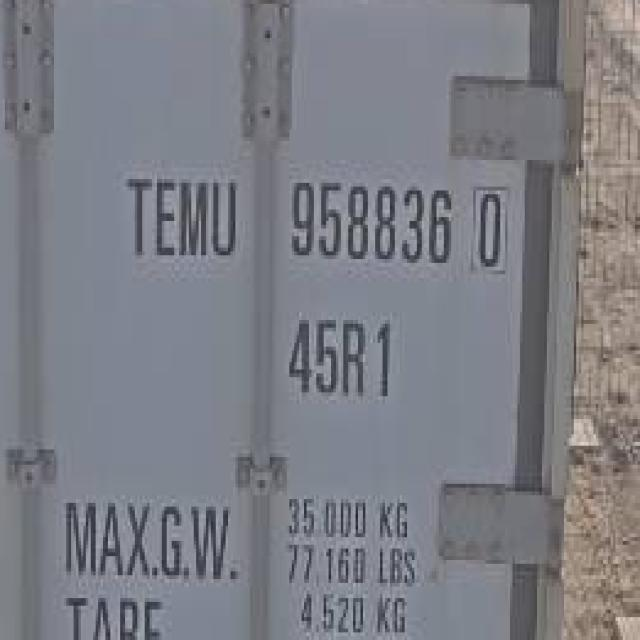dv: (466, 180, 511, 282)
owner: (120, 164, 246, 268)
serial: (284, 173, 454, 269)
size: (281, 312, 402, 406)
